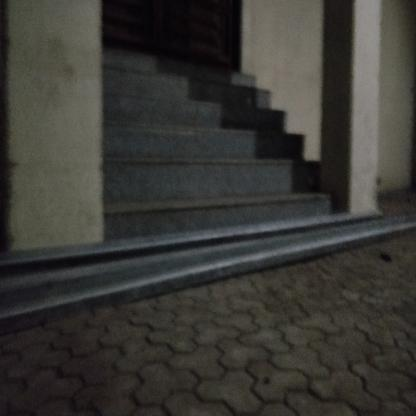stairs: (107, 51, 255, 229)
